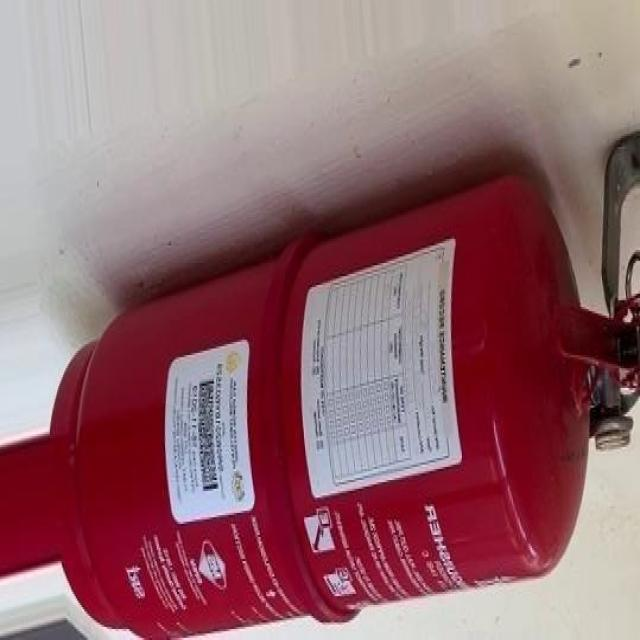fire_extinguisher: (41, 160, 639, 638)
